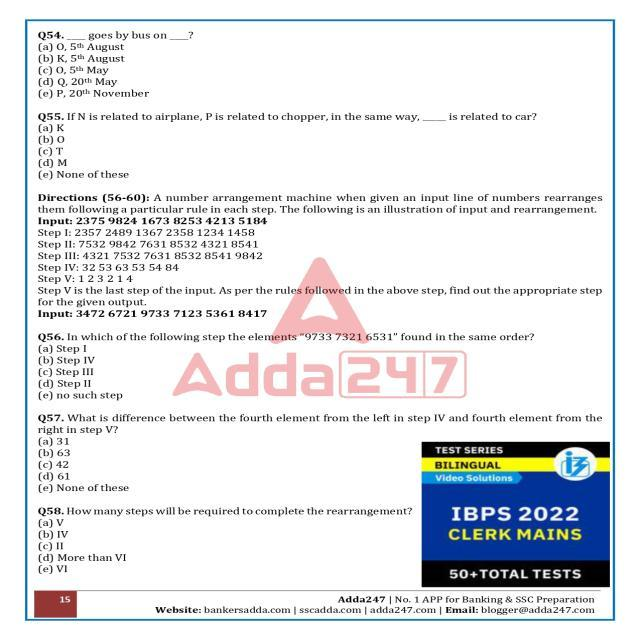Answer_Block: (24, 40, 614, 101), (28, 122, 616, 183), (26, 344, 614, 401), (22, 434, 610, 490), (28, 518, 602, 574)
Instruction: (28, 187, 616, 324)
Question_Answer_Block: (29, 412, 610, 492), (24, 108, 610, 184), (31, 328, 619, 401), (28, 30, 618, 100), (24, 507, 604, 576)
Question_Block: (32, 409, 610, 433), (31, 326, 617, 342), (21, 106, 606, 122), (23, 501, 616, 516), (21, 32, 614, 42)
Question_Paper_Area: (31, 28, 606, 578)
